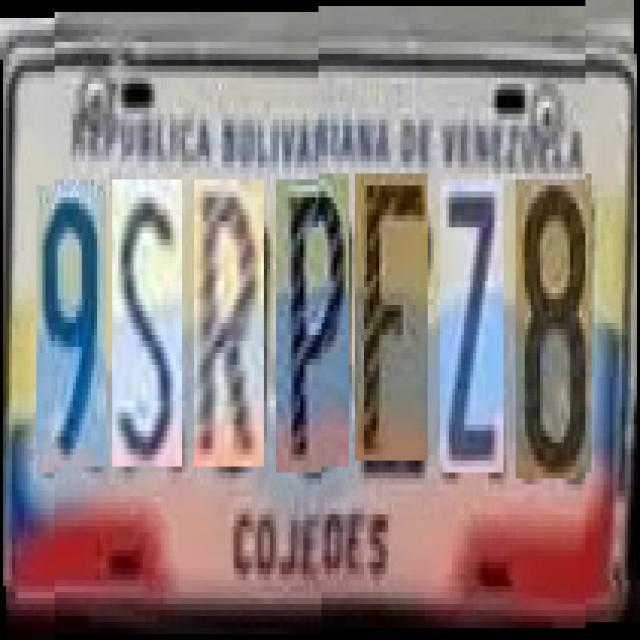8: (516, 180, 592, 478)
9: (36, 174, 106, 460)
F: (355, 174, 428, 460)
P: (276, 174, 349, 466)
R: (194, 174, 264, 460)
S: (112, 174, 182, 460)
Z: (440, 180, 503, 472)
